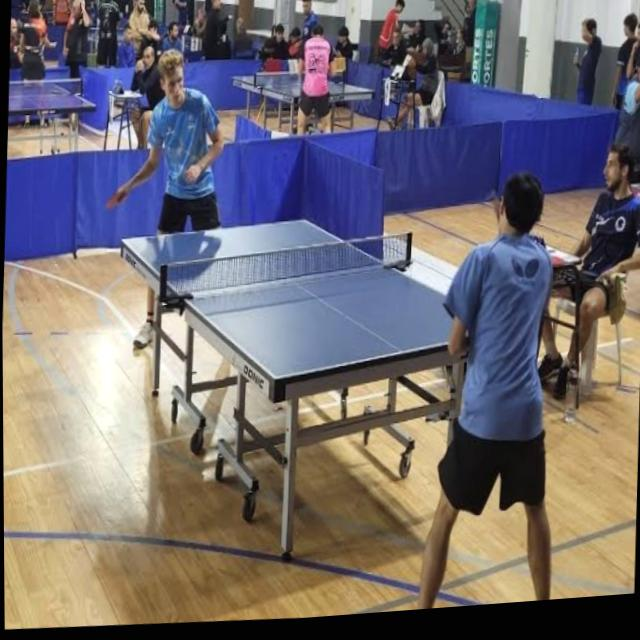TT Net: (159, 229, 415, 305), (252, 64, 347, 90), (8, 77, 84, 100)
TT Racket: (102, 187, 128, 216)
TT Table: (122, 219, 510, 378), (230, 70, 374, 96), (8, 83, 93, 111)
